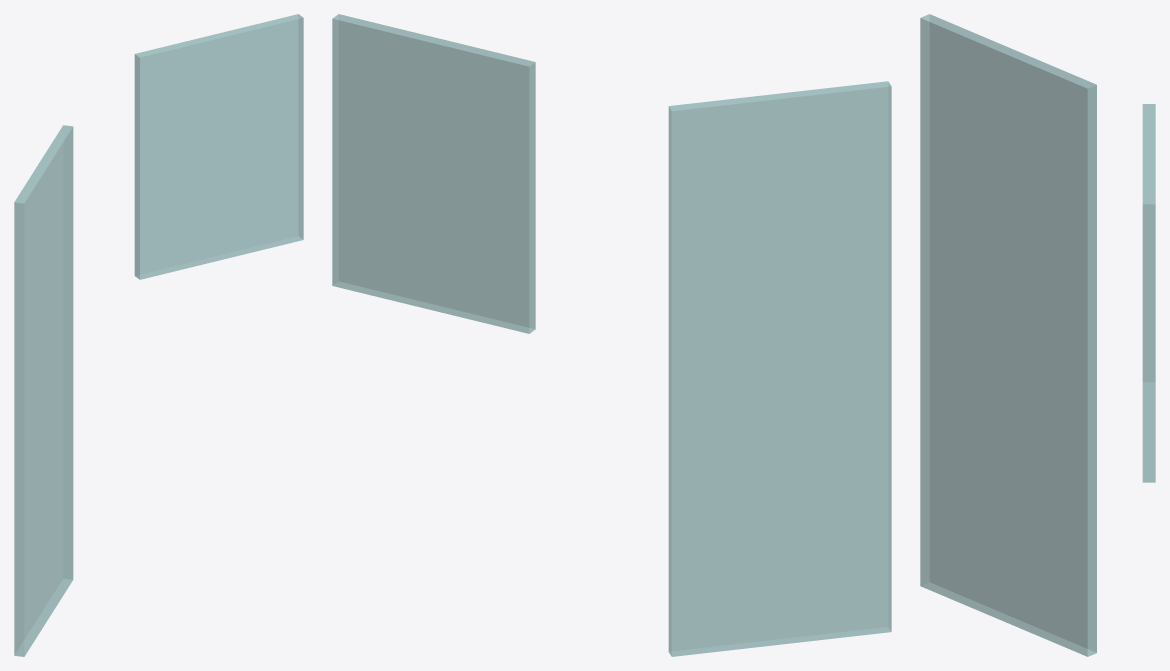
The model's file is s_cam.obj.
3 renders of one model, left to right at view 1: azimuth 30°, elevation 25°; view 2: azimuth 150°, elevation 25°; view 3: azimuth 270°, elevation 25°, orthographic. The views are drawn at different scales.
Parts seen in each view (by area): view 1: Cube.098_m_cam, Cube.002_m_cam; view 2: Cube.002_m_cam, Cube.098_m_cam; view 3: Cube.002_m_cam, Cube.098_m_cam.
Part boxes in pixels (left/top/right/bottom): Cube.098_m_cam: left=134, top=14, right=303, bottom=279; Cube.002_m_cam: left=14, top=125, right=73, bottom=656; Cube.002_m_cam: left=668, top=81, right=891, bottom=656; Cube.098_m_cam: left=332, top=14, right=535, bottom=333; Cube.002_m_cam: left=920, top=14, right=1096, bottom=656; Cube.098_m_cam: left=1142, top=104, right=1155, bottom=482.
Size of the model in its own units: 29.8 by 36.84 by 12.95.
